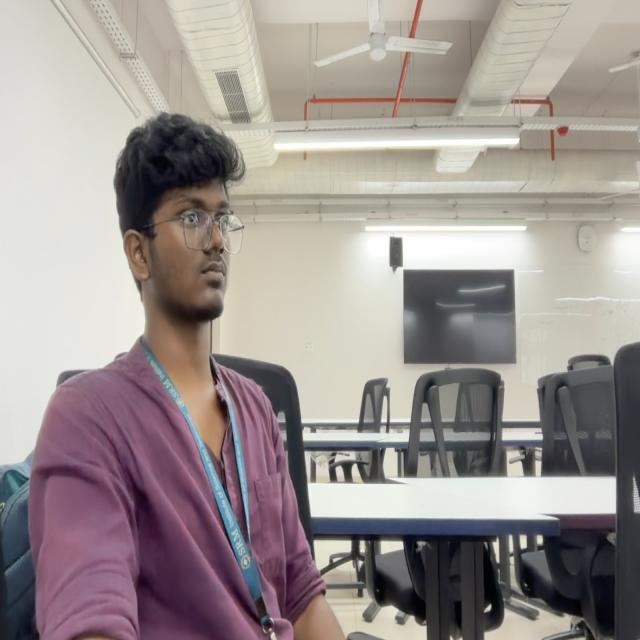ravindra: (112, 114, 245, 326)
